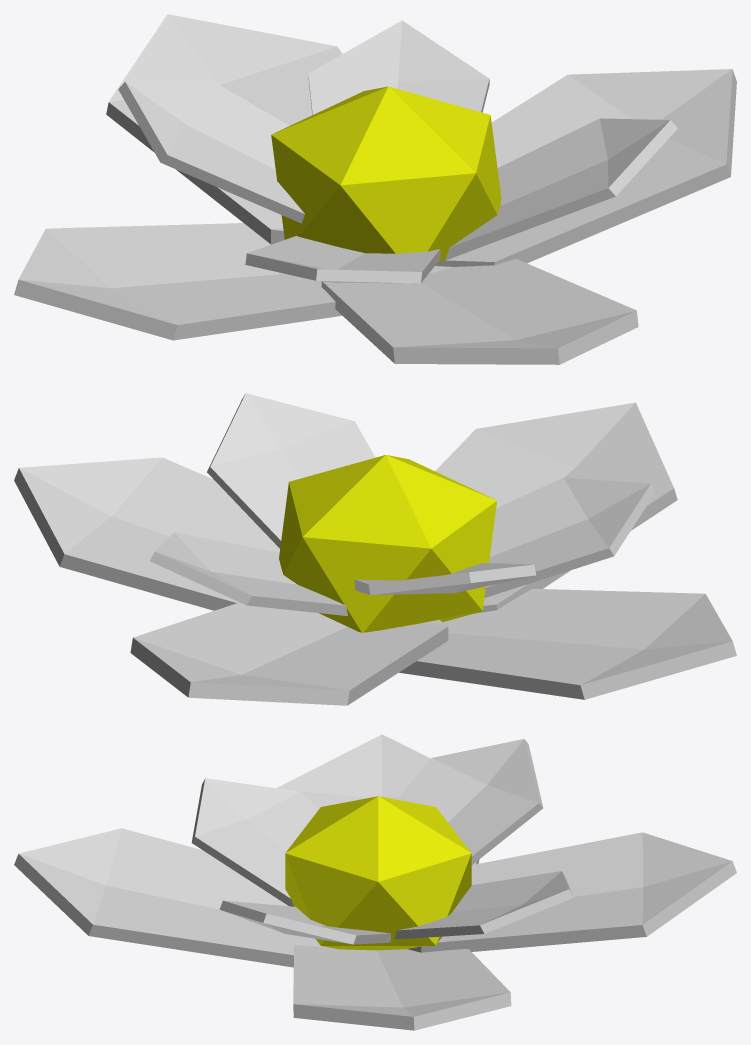
The model's file is Lotus 1.fbx.
3 views of the same model, one above another, from view 1: azimuth 30°, elevation 25°; view 2: azimuth 150°, elevation 25°; view 3: azimuth 270°, elevation 25° (orthographic). The views are drawn at different scales.
Parts seen in each view (by area): view 1: Icosphere, Cube.003, Cube.001, Cube.002, Cube, Cube.007, Cube.005, Cube.004, Cube.006; view 2: Icosphere, Cube.003, Cube.001, Cube, Cube.002, Cube.005, Cube.006, Cube.004, Cube.007; view 3: Cube.002, Icosphere, Cube, Cube.001, Cube.007, Cube.006, Cube.003, Cube.004, Cube.005.
Part boxes in pixels (box(x1,y1,x2,y2)): Icosphere: box(271, 86, 501, 263); Cube.003: box(14, 223, 342, 340); Cube.001: box(435, 69, 736, 266); Cube.002: box(321, 259, 638, 364); Cube: box(106, 14, 342, 244); Cube.007: box(118, 81, 304, 223); Cube.005: box(444, 118, 677, 260); Cube.004: box(308, 20, 489, 114); Cube.006: box(245, 236, 440, 283); Icosphere: box(279, 455, 496, 632); Cube.003: box(399, 588, 736, 699); Cube.001: box(14, 457, 279, 610); Cube: box(130, 602, 448, 705); Cube.002: box(435, 402, 677, 613); Cube.005: box(207, 393, 375, 548); Cube.006: box(484, 477, 655, 597); Cube.004: box(149, 532, 347, 615); Cube.007: box(354, 563, 536, 595); Cube.002: box(14, 828, 315, 967); Icosphere: box(285, 796, 471, 950); Cube: box(408, 832, 736, 952); Cube.001: box(293, 939, 511, 1030); Cube.007: box(397, 739, 543, 864); Cube.006: box(191, 778, 318, 906); Cube.003: box(276, 734, 479, 864); Cube.004: box(394, 871, 573, 939); Cube.005: box(219, 900, 390, 944).
Size of the model in its own units: 650 by 162 by 660.
